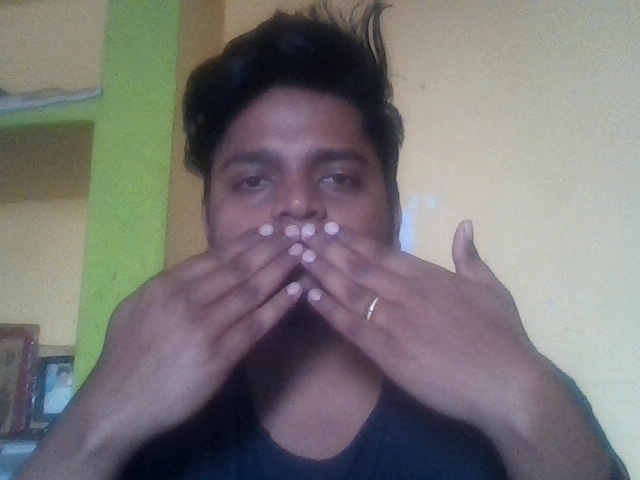thanks: (91, 214, 578, 426)
